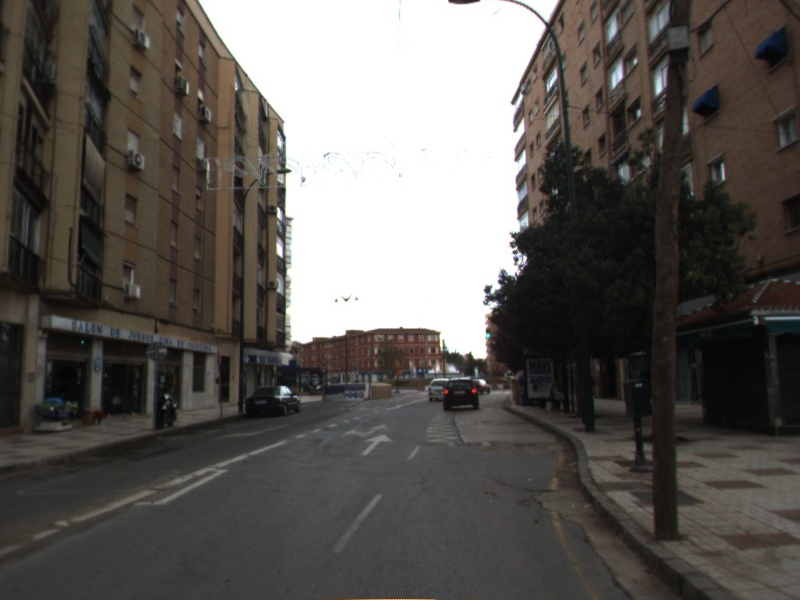STRAIGHT: (358, 432, 394, 458)
STRAIGHT_LEFT: (339, 421, 391, 439)
